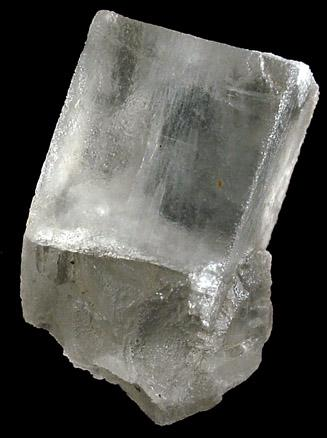halite: (22, 10, 319, 426), (21, 239, 272, 426)
